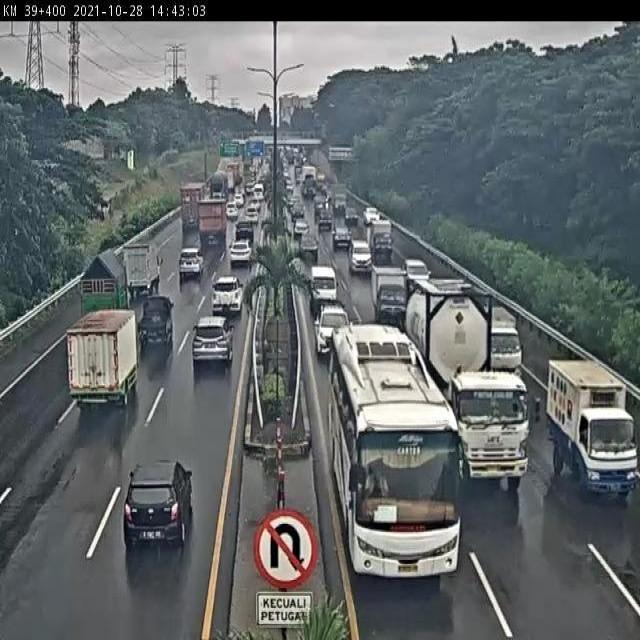bus-l-: (332, 323, 470, 588)
car: (123, 461, 195, 548), (191, 316, 234, 369), (315, 305, 351, 359), (309, 265, 337, 315), (213, 275, 247, 313), (401, 259, 428, 293), (180, 247, 206, 280), (350, 240, 374, 275), (230, 237, 251, 263)
truck-s-: (546, 355, 639, 501), (65, 307, 143, 413), (81, 252, 129, 323), (480, 304, 521, 383), (372, 265, 412, 331), (122, 243, 162, 292), (368, 220, 394, 257)
truck-xl-: (403, 275, 543, 493)
